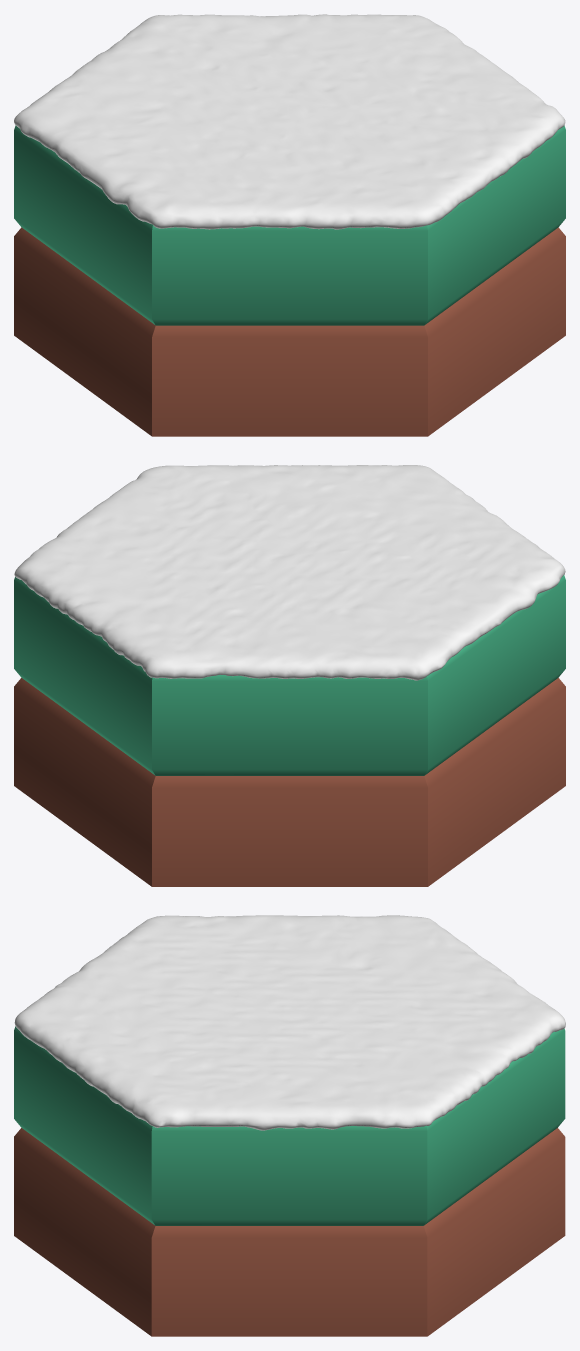
File: snow_hex_forest_detail.fbx
3 renders of one model, top to bottom at view 1: azimuth 30°, elevation 25°; view 2: azimuth 150°, elevation 25°; view 3: azimuth 270°, elevation 25°, orthographic.
Parts seen in each view (by area): view 1: SnowBall.001, hex_forest_detail, hex_forest_detail.001; view 2: SnowBall.001, hex_forest_detail, hex_forest_detail.001; view 3: SnowBall.001, hex_forest_detail, hex_forest_detail.001.
Boxes of the visible parts, x1,y1,x2,y2 form: SnowBall.001: (14,14,565,229); hex_forest_detail: (14,227,565,436); hex_forest_detail.001: (14,125,565,325); SnowBall.001: (14,465,565,680); hex_forest_detail: (14,678,565,886); hex_forest_detail.001: (14,575,565,775); SnowBall.001: (14,915,565,1130); hex_forest_detail: (14,1128,565,1336); hex_forest_detail.001: (14,1026,565,1225).
Bounding box in the file's own units: 204 × 104 × 231.
